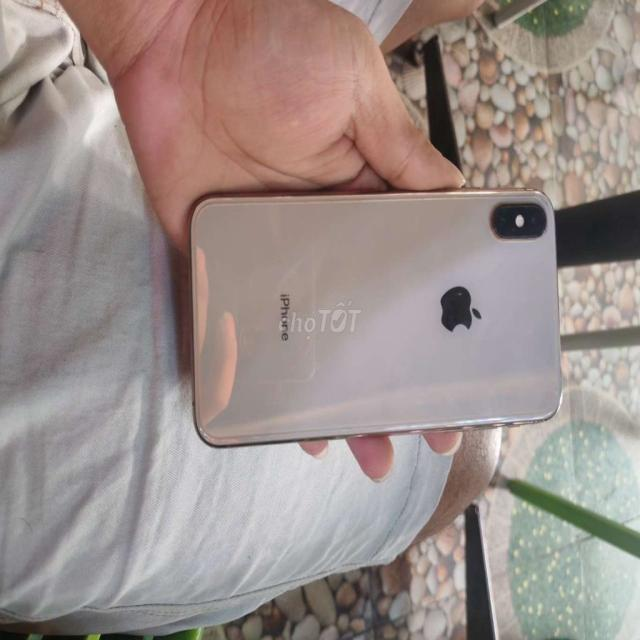gen_x_xs: (191, 189, 561, 445)
scratch: (538, 227, 548, 238)
